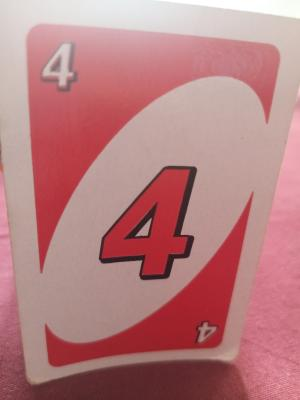num_4: (37, 37, 83, 97), (190, 314, 222, 350)
